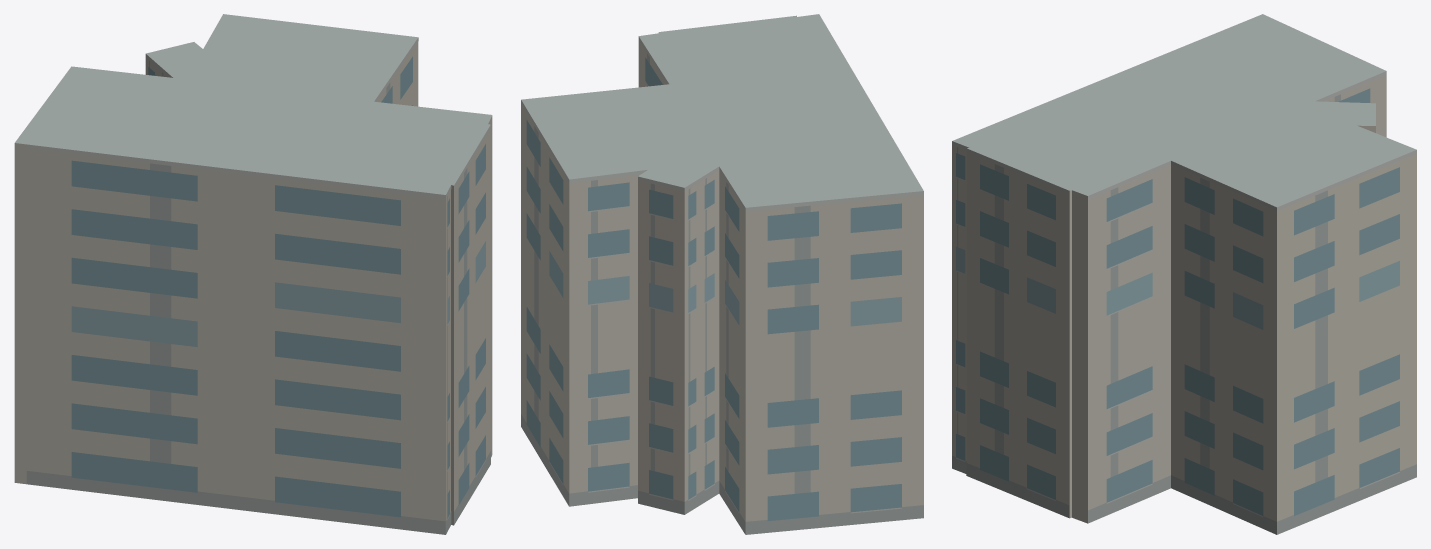
The model's file is survey-upis-32834313.glb.
3 views of the same model, side by side, from view 1: azimuth 30°, elevation 25°; view 2: azimuth 150°, elevation 25°; view 3: azimuth 270°, elevation 25° (orthographic). The views are drawn at different scales.
Parts seen in each view (by area): view 1: survey-upis-32834313.tmp; view 2: survey-upis-32834313.tmp; view 3: survey-upis-32834313.tmp.
Part boxes in pixels (<box>): survey-upis-32834313.tmp: <box>14,14,492,534</box>; survey-upis-32834313.tmp: <box>521,14,923,534</box>; survey-upis-32834313.tmp: <box>952,14,1416,534</box>.
Bounding box in the file's own units: 25.58 × 20.2 × 25.99.
